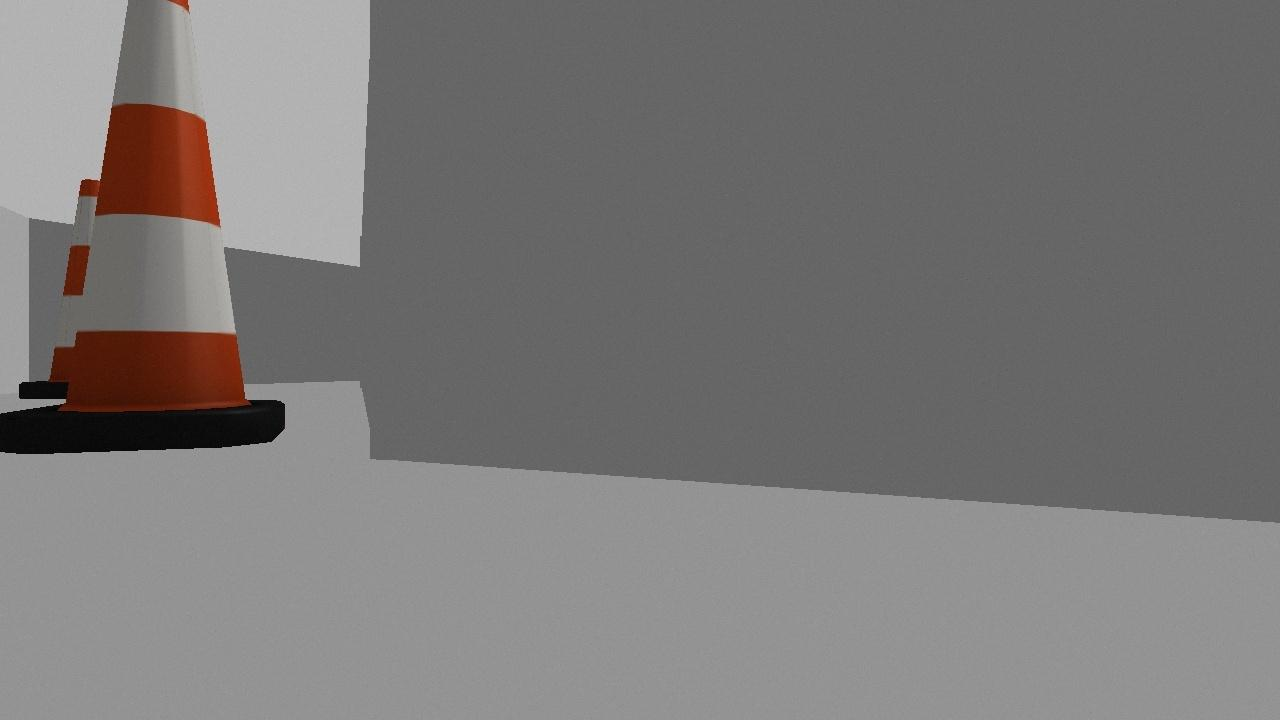cone_barrel: (13, 171, 139, 401)
